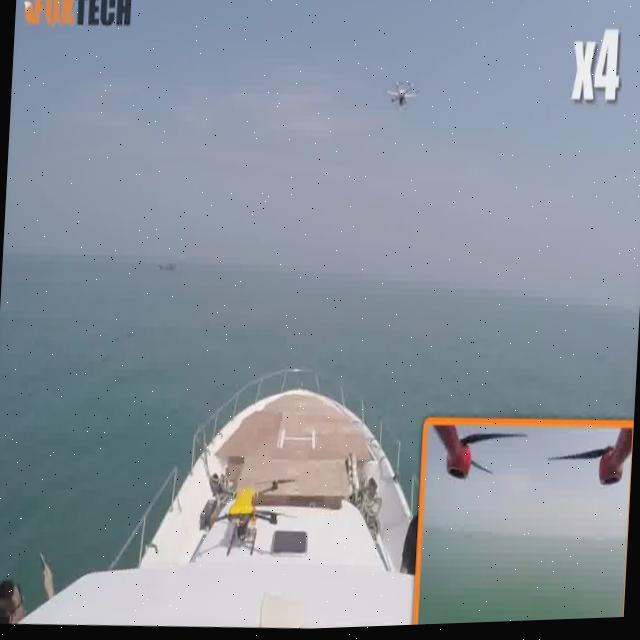drone: (182, 454, 288, 566), (378, 65, 429, 126)
